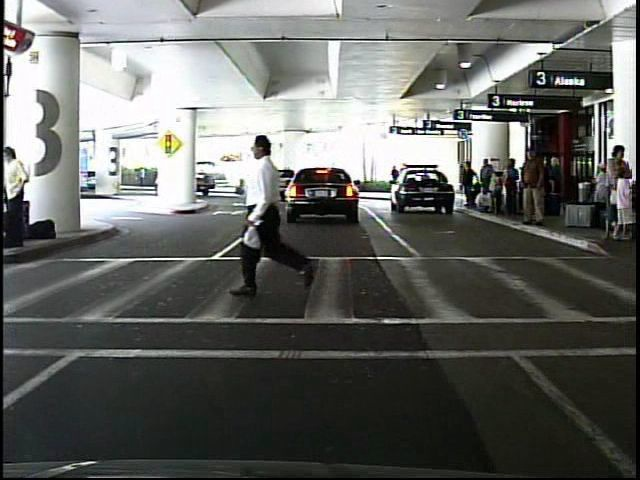person: (237, 130, 310, 306), (517, 143, 550, 229), (6, 145, 33, 250), (459, 162, 478, 209), (136, 163, 148, 190)
